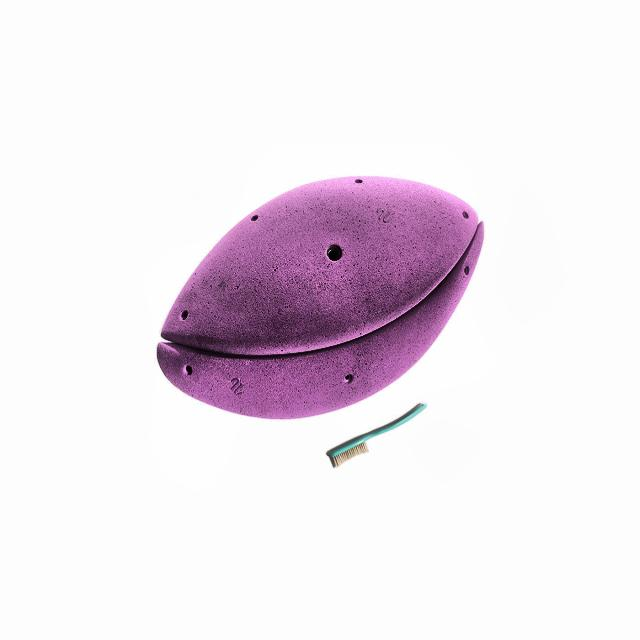Hold: (134, 150, 499, 448)
